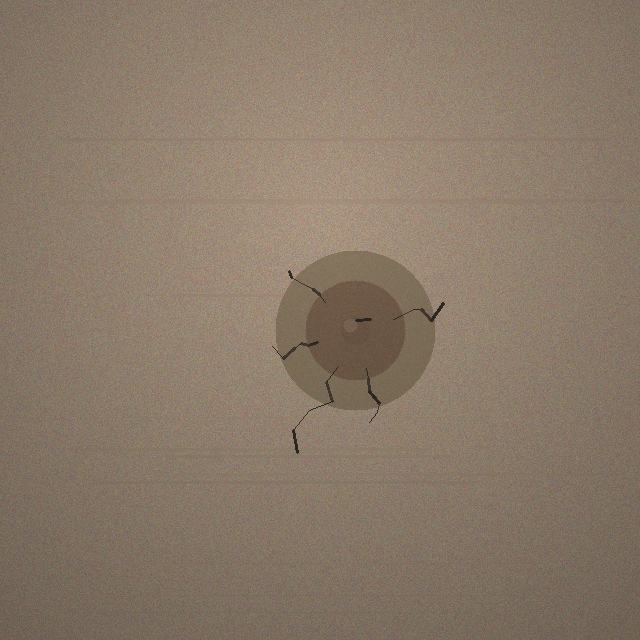crack: (275, 250, 435, 410)
